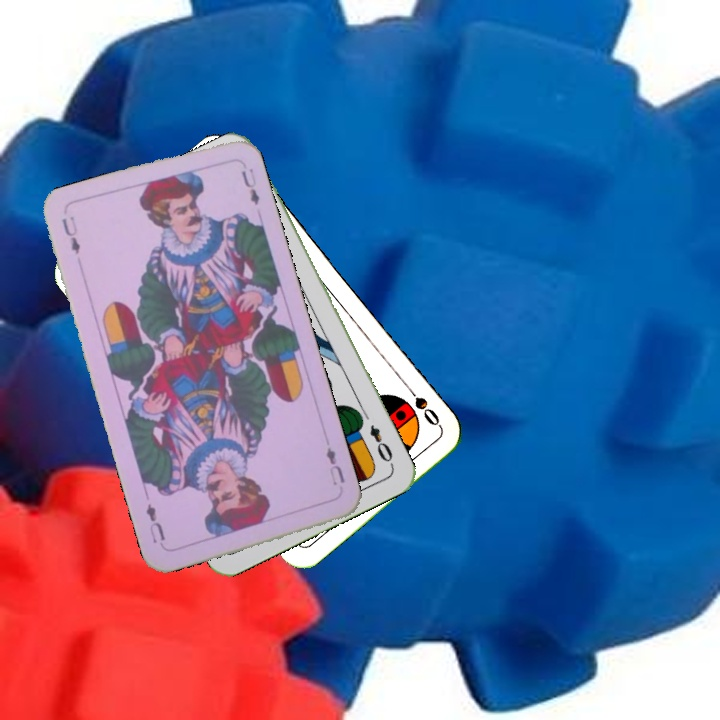EO: (365, 420, 397, 469)
EU: (321, 443, 347, 489), (58, 211, 83, 257)
SO: (400, 380, 443, 429)
